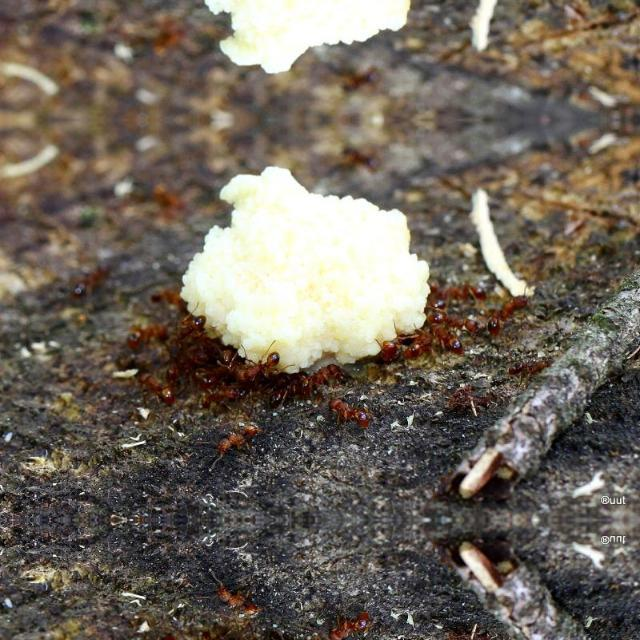Myrmica: (204, 417, 274, 465), (204, 574, 274, 622), (324, 391, 376, 439), (440, 377, 502, 415), (324, 600, 374, 640), (234, 343, 286, 381), (494, 290, 540, 332), (434, 269, 486, 305), (292, 362, 351, 390), (426, 304, 484, 332), (267, 379, 317, 411), (66, 264, 108, 302), (508, 348, 558, 378), (126, 318, 174, 348), (140, 371, 182, 405), (368, 332, 404, 370), (428, 321, 464, 357), (204, 388, 254, 412), (440, 624, 502, 640), (144, 284, 184, 308), (402, 321, 423, 362), (204, 626, 254, 640), (192, 366, 222, 388), (178, 310, 204, 334), (267, 628, 317, 640)
